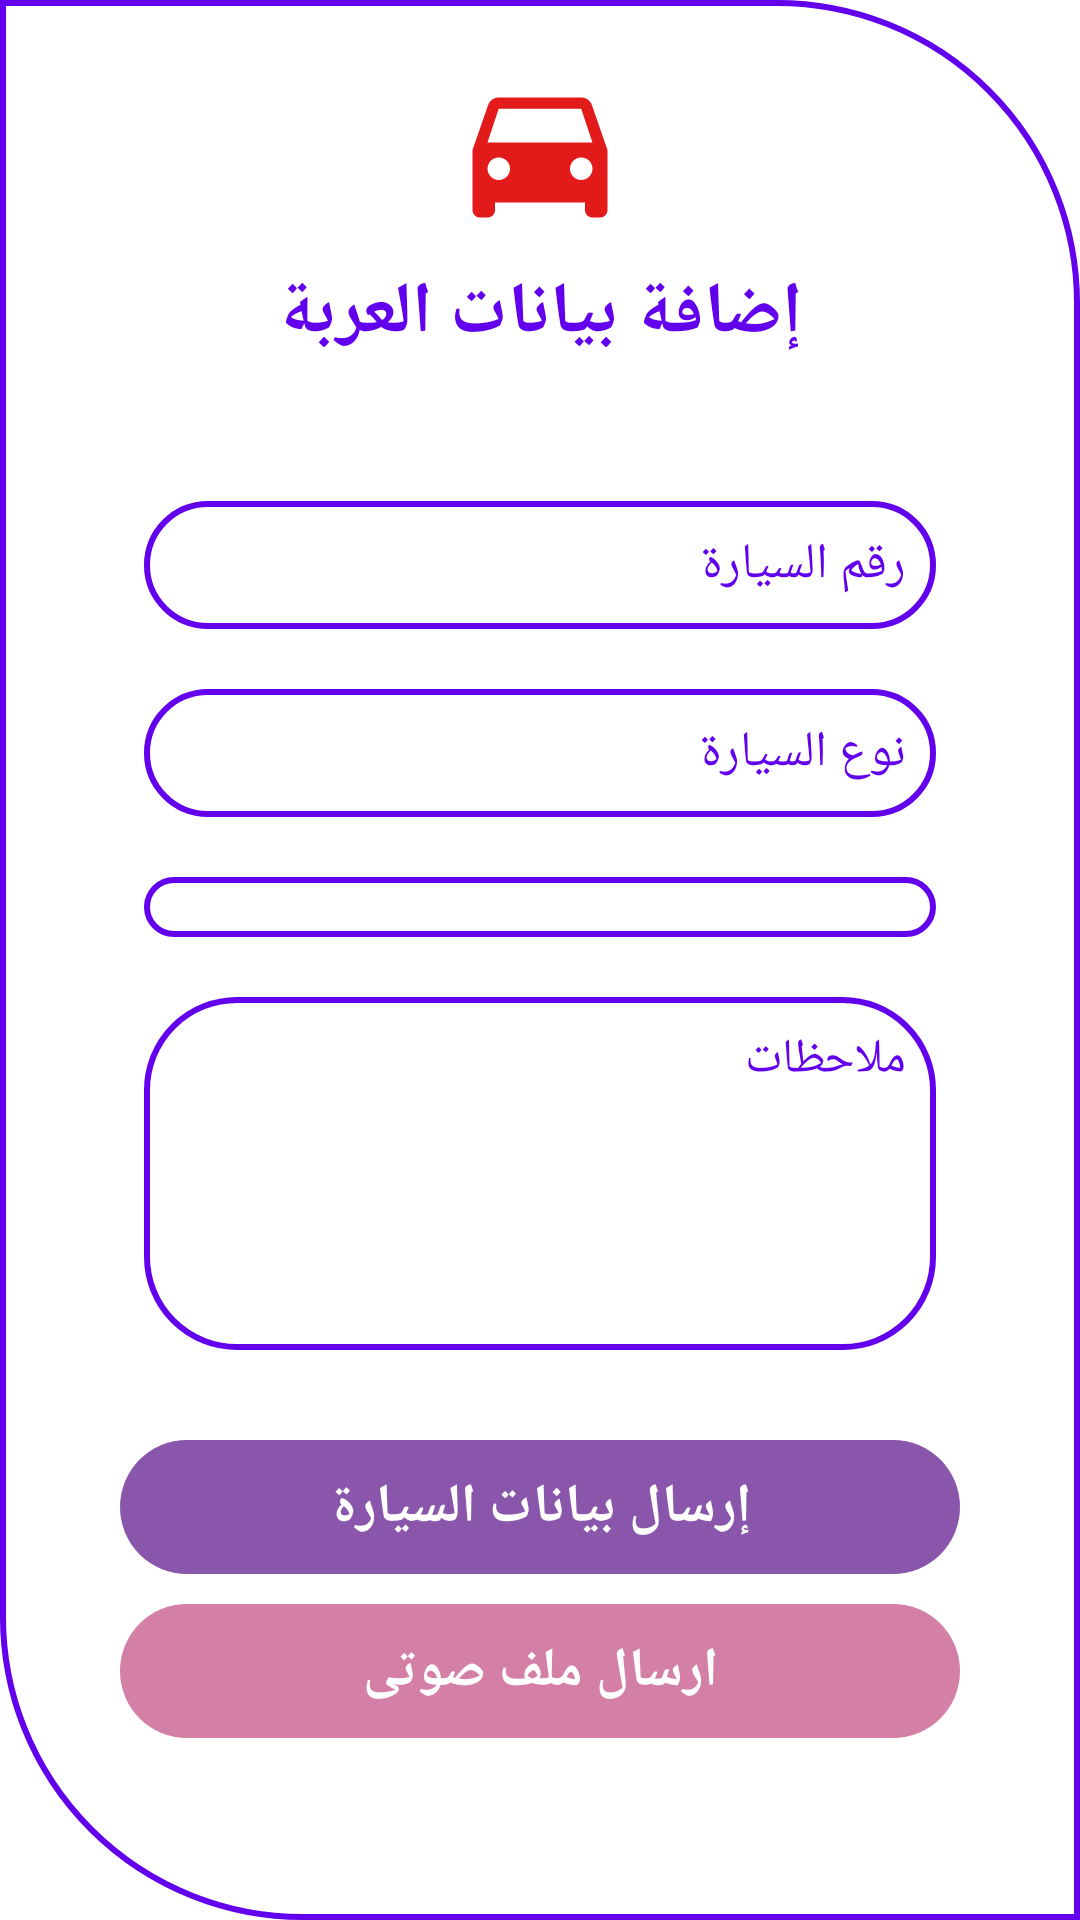

Screen size 1080 x 1920. Icon name, then its box in pixels as (x1, y1, x2, y2):
car: (472, 97, 608, 218)
